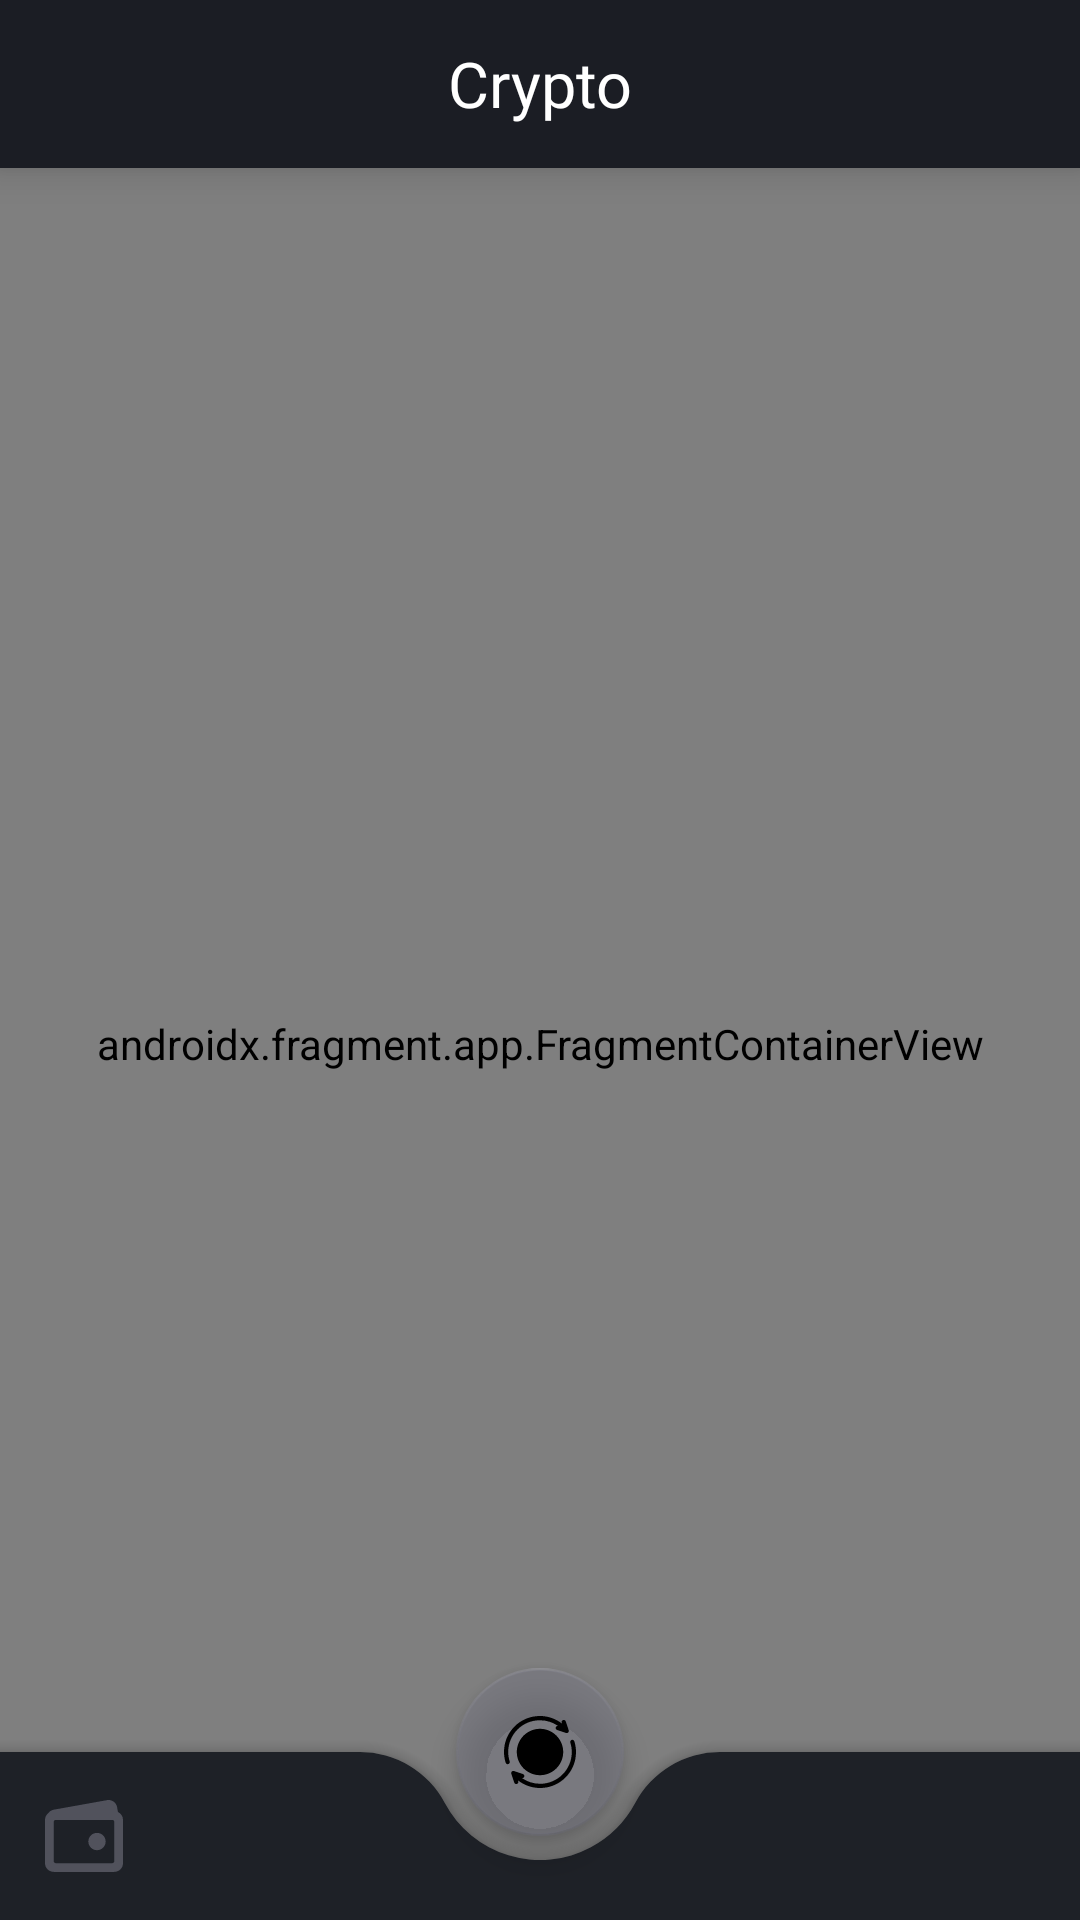

Screen size 1080px x 1920px. Icon name, then its box in pixels as (x1, y1, x2, y2):
convert: (504, 1716, 576, 1834)
